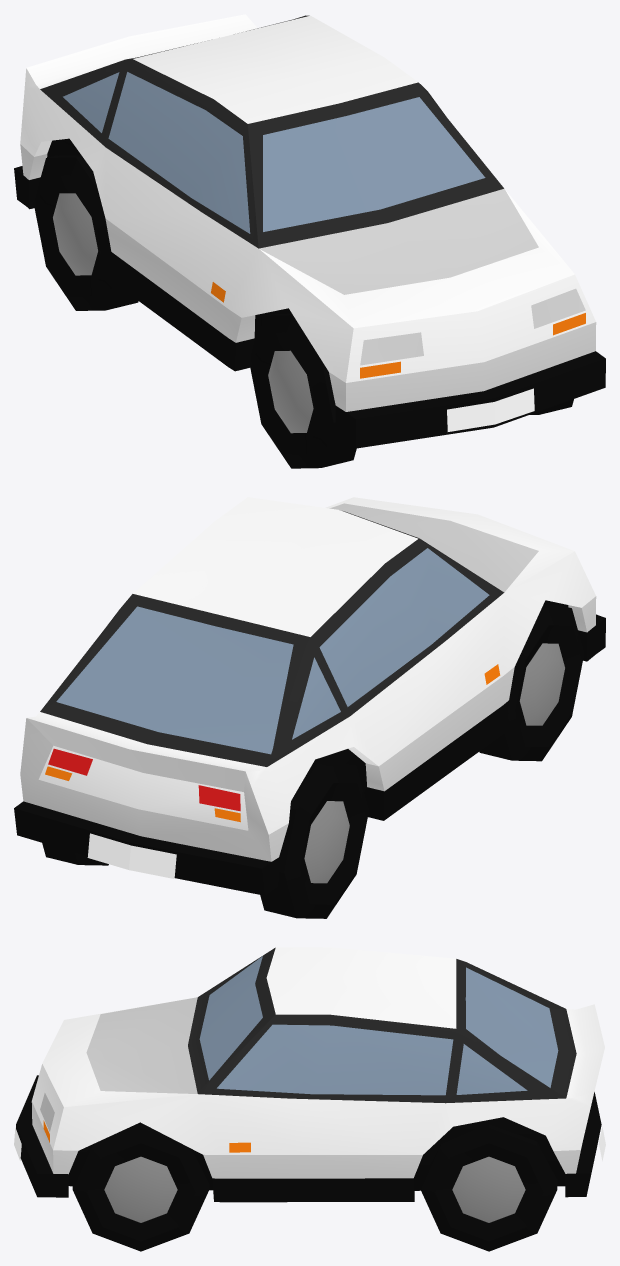
The model's file is sedan_white.glb.
3 views of the same model, one above another, from view 1: azimuth 30°, elevation 25°; view 2: azimuth 150°, elevation 25°; view 3: azimuth 270°, elevation 25° (orthographic). The views are drawn at different scales.
Visible parts, largest first — view 1: Object_6; view 2: Object_6; view 3: Object_6.
Part boxes in pixels (box(x1,y1,x2,y2)): Object_6: box(14, 14, 605, 468); Object_6: box(14, 497, 605, 918); Object_6: box(14, 947, 605, 1251).
Size of the model in its own units: 2.47 by 2.37 by 5.68.
Materials: 1 (1 with a texture image).
